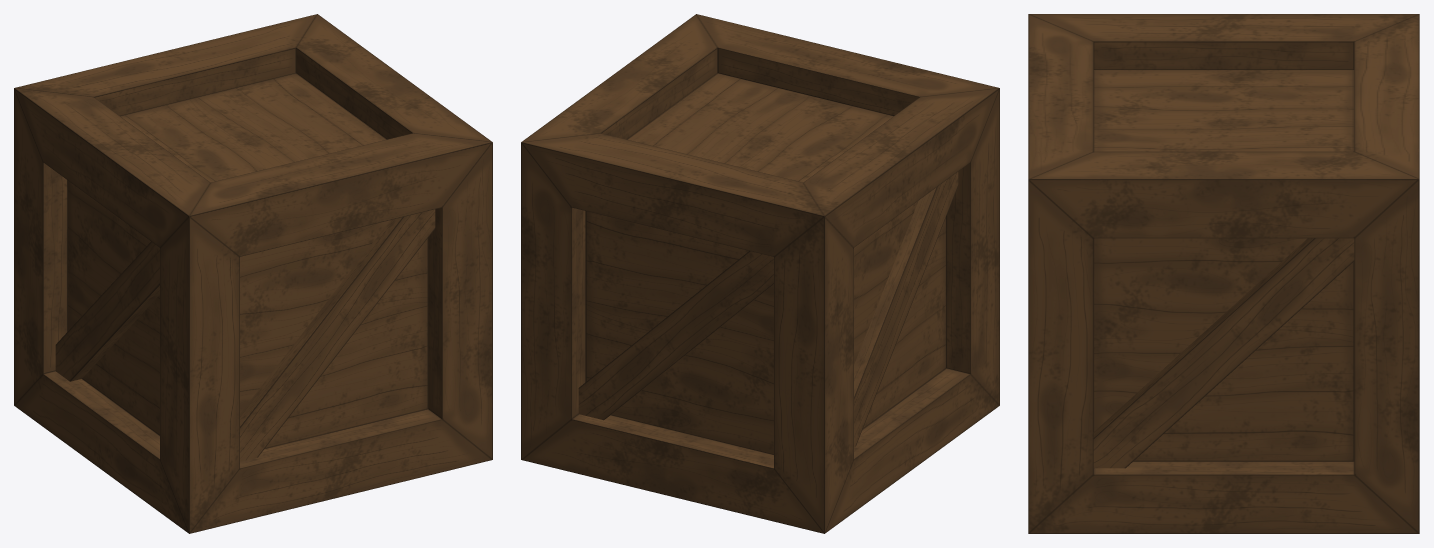
The model's file is Object_Crate.fbx.
The picture shows the model from 3 angles, left to right: view 1: azimuth 30°, elevation 25°; view 2: azimuth 150°, elevation 25°; view 3: azimuth 270°, elevation 25°; orthographic projection. The views are drawn at different scales.
Visible parts, largest first — view 1: pCube6; view 2: pCube6; view 3: pCube6.
Boxes of the visible parts, x1,y1,x2,y2 form: pCube6: (14,14,492,533); pCube6: (521,14,999,533); pCube6: (1028,14,1419,533).
Size of the model in its own units: 2 by 2 by 2.
